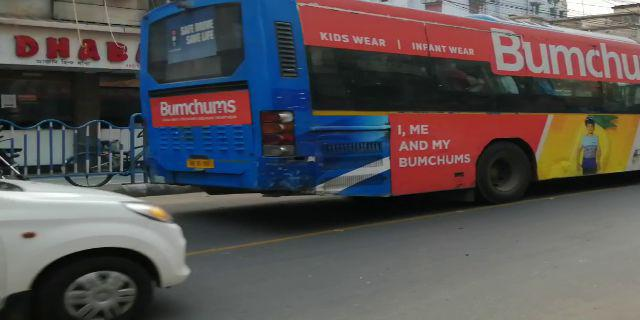Bus: (144, 13, 640, 195)
Car: (1, 164, 194, 319)
